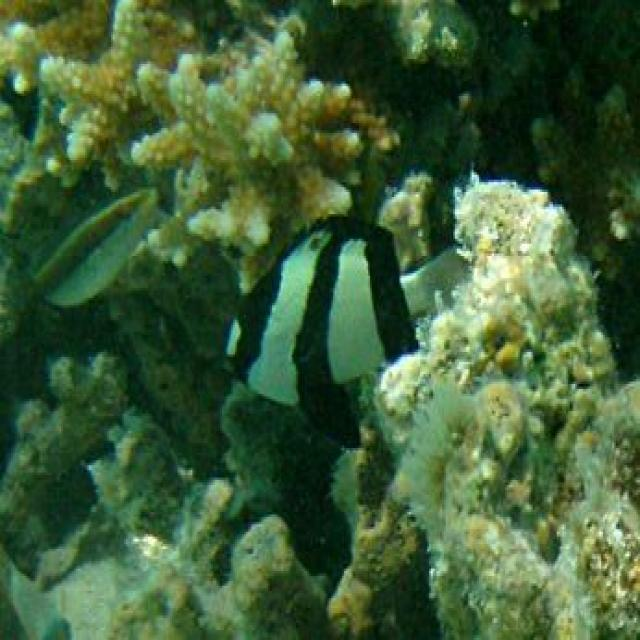Three_striped DasmselFish: (220, 206, 469, 413)
